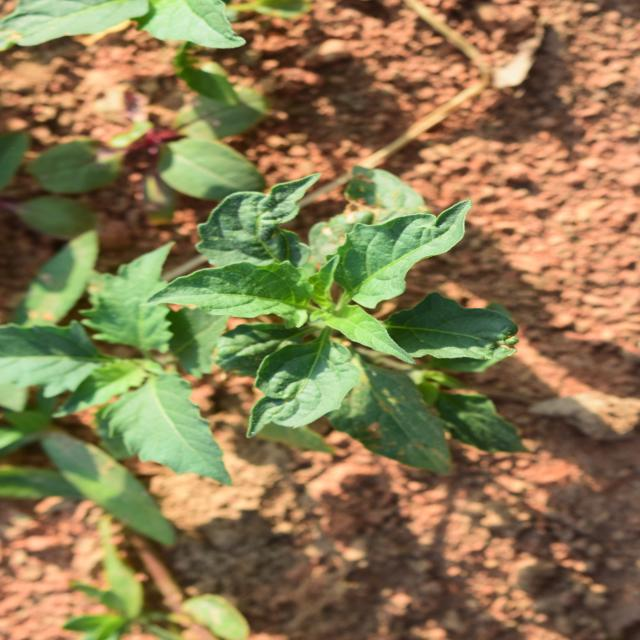Black_nightshade: (192, 166, 472, 516)
